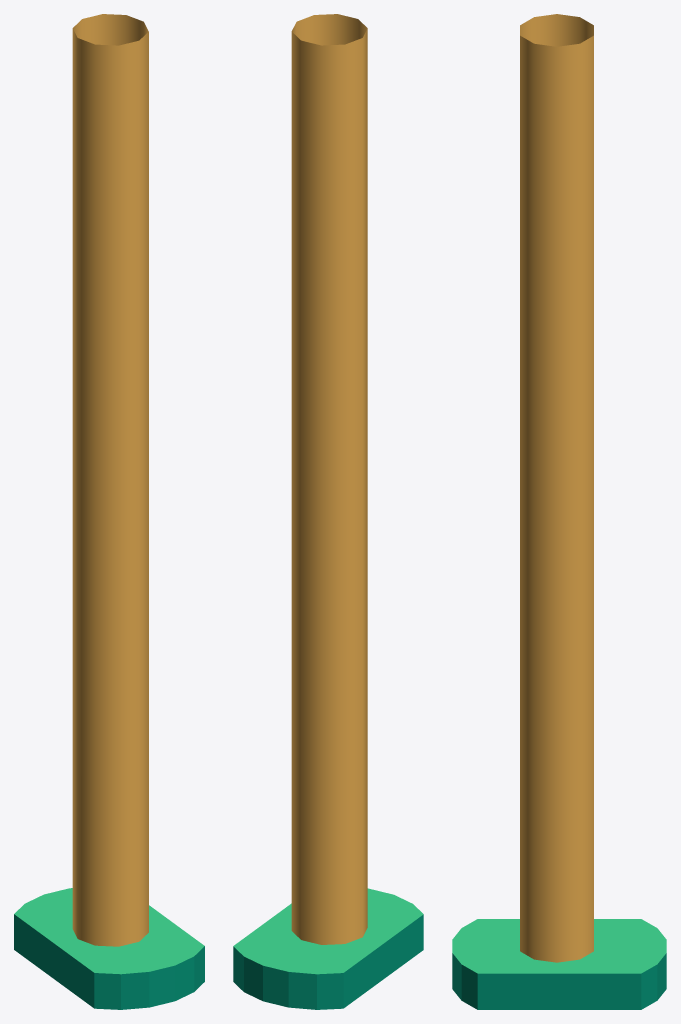
Rendered from Notice_broad.fbx.
3 views of the same model, side by side, from view 1: azimuth 30°, elevation 25°; view 2: azimuth 150°, elevation 25°; view 3: azimuth 270°, elevation 25° (orthographic).
Parts seen in each view (by area): view 1: Notice_broad; view 2: Notice_broad; view 3: Notice_broad.
Part boxes in pixels (x1,y1,x2,y2): Notice_broad: [14, 14, 204, 1009]; Notice_broad: [233, 14, 423, 1009]; Notice_broad: [452, 14, 666, 1009].
Bounding box in the file's own units: 1.5 × 12.17 × 2.49.
Materials: 1 (1 with a texture image).
